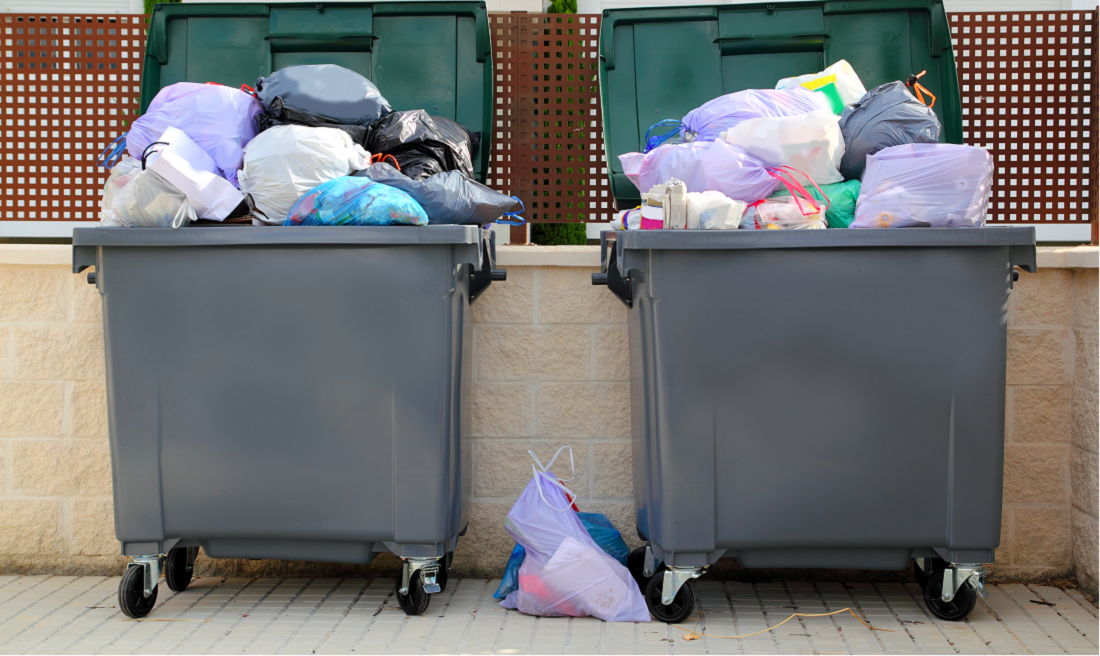plastic_bagwdw: (466, 414, 676, 656), (785, 100, 1002, 273), (56, 144, 268, 283), (619, 51, 859, 172), (214, 112, 402, 266), (578, 117, 805, 234), (356, 118, 561, 245), (826, 31, 996, 183), (609, 165, 783, 311), (490, 477, 632, 644), (72, 63, 257, 180), (246, 32, 396, 170), (133, 119, 267, 263), (696, 80, 844, 210), (289, 161, 427, 288), (757, 141, 893, 263), (741, 161, 844, 295), (365, 72, 478, 183)
